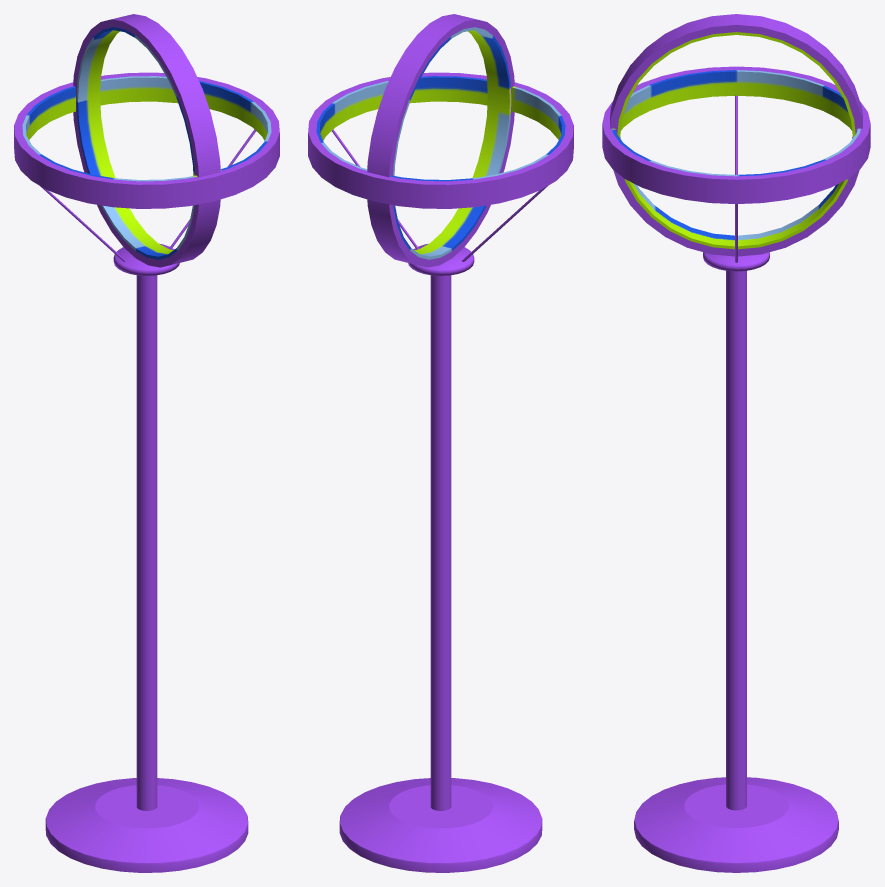
Rendered from LightFloor06_1.FBX.
3 views of the same model, side by side, from view 1: azimuth 30°, elevation 25°; view 2: azimuth 150°, elevation 25°; view 3: azimuth 270°, elevation 25° (orthographic).
Visible parts, largest first — view 1: LightFloor06_1; view 2: LightFloor06_1; view 3: LightFloor06_1.
Boxes of the visible parts, x1,y1,x2,y2 form: LightFloor06_1: (14, 14, 279, 872); LightFloor06_1: (308, 14, 573, 872); LightFloor06_1: (602, 14, 870, 872).
Bounding box in the file's own units: 48 × 160 × 48.
